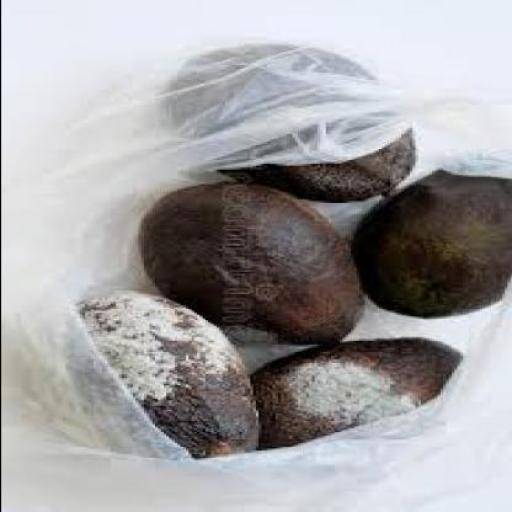biodegradable: (179, 43, 417, 199), (140, 180, 366, 343), (72, 288, 266, 460), (354, 152, 511, 318), (266, 336, 468, 448)
